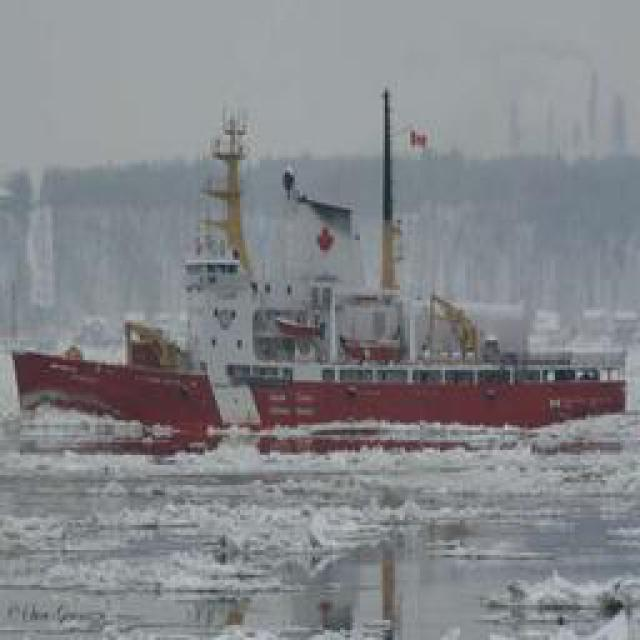Ship: (223, 360, 628, 435)
